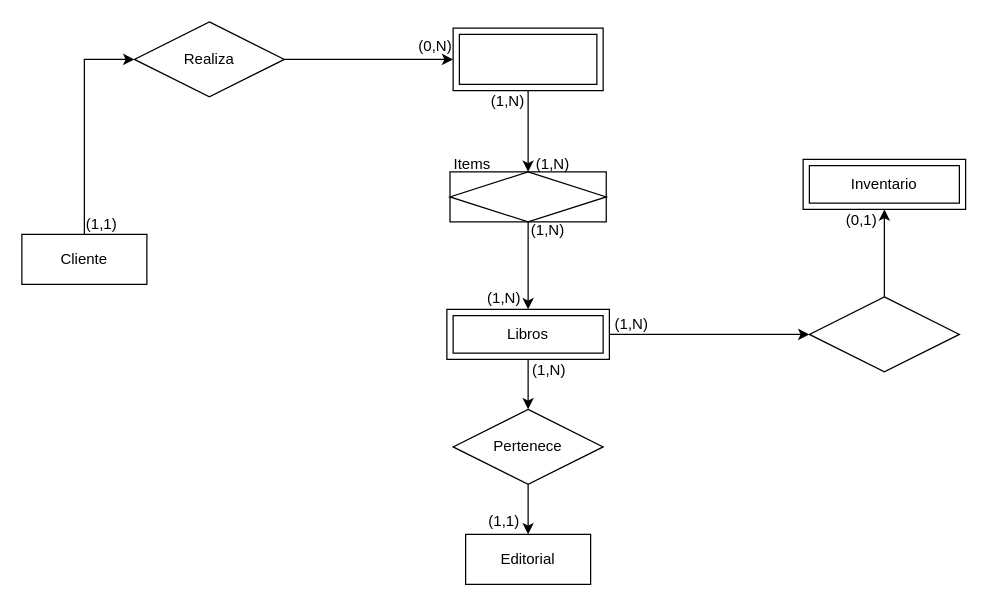
This 988x606 diagram has some shape labels left out. Here are the shapes that lost their labels. From the top down, the centre of each, then its label:
At [527,59]: "Pedido de compra".
At [527,196]: "Contiene".
At [883,334]: "Existe".
